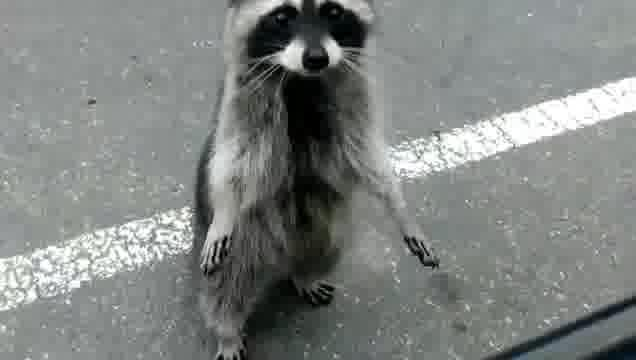raccoon: (186, 0, 443, 359)
